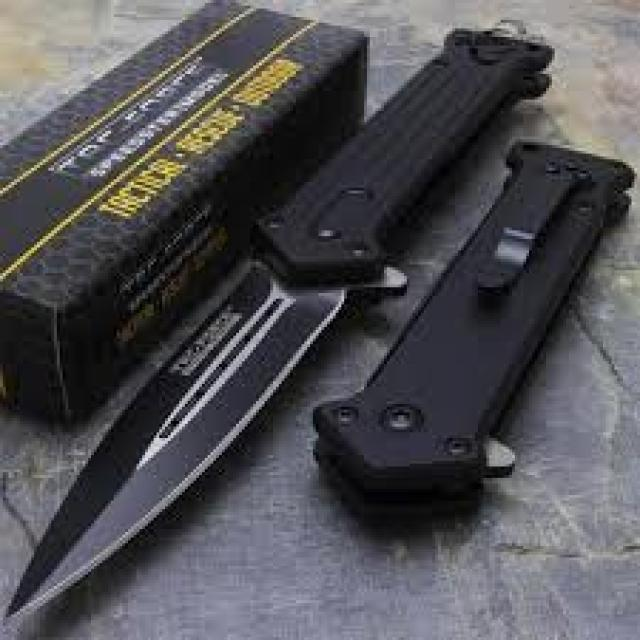knives: (23, 140, 355, 640)
